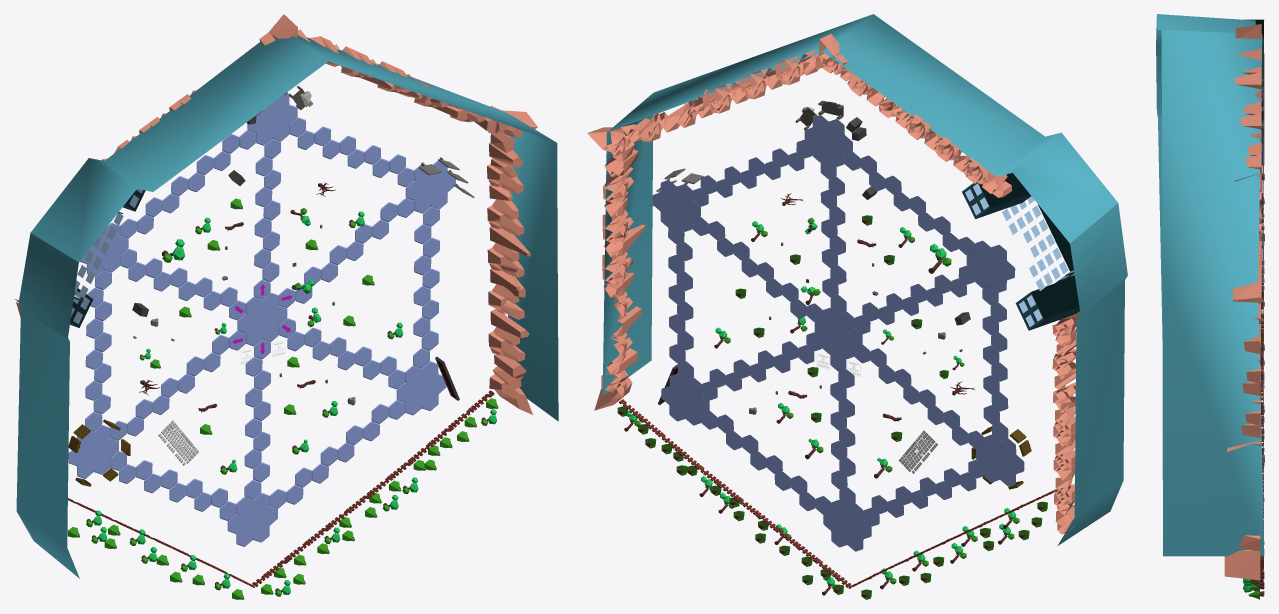
3 views of the same model, side by side, from view 1: azimuth 30°, elevation 25°; view 2: azimuth 150°, elevation 25°; view 3: azimuth 270°, elevation 25° (orthographic). The views are drawn at different scales.
Parts seen in each view (by area): view 1: Plane.001, Circle.015, Circle.014, пол.010, пол.008, пол.011, пол.002, пол.003, пол.005, пол.006, пол.001, пол.012 (+13 smaller); view 2: Plane.001, Circle.015, Circle.014, Circle.032, Circle.001, stone2.001, пол.008, пол.010, пол.002, пол.004, пол.005, пол.001 (+15 smaller); view 3: Plane.001, Circle.015, Circle.014, stone2.001, Circle.001.
Part boxes in pixels (<box>): Plane.001: <box>16,35,558,578</box>; Circle.015: <box>487,132,532,414</box>; Circle.014: <box>297,29,537,137</box>; пол.010: <box>413,206,439,367</box>; пол.008: <box>85,270,111,431</box>; пол.011: <box>269,400,405,508</box>; пол.002: <box>244,339,270,499</box>; пол.003: <box>120,130,255,238</box>; пол.005: <box>253,139,281,299</box>; пол.006: <box>120,248,245,320</box>; пол.001: <box>279,318,404,389</box>; пол.012: <box>110,451,236,520</box>; Plane.001: <box>602,14,1127,545</box>; Circle.015: <box>594,141,645,410</box>; Circle.014: <box>587,49,831,156</box>; Circle.032: <box>1052,311,1079,534</box>; Circle.001: <box>819,34,1011,197</box>; stone2.001: <box>962,173,1079,330</box>; пол.008: <box>982,286,1008,441</box>; пол.010: <box>668,225,693,380</box>; пол.002: <box>830,353,855,505</box>; пол.004: <box>692,217,822,322</box>; пол.005: <box>820,160,846,313</box>; пол.001: <box>701,332,822,400</box>; Plane.001: <box>1156,14,1264,556</box>; Circle.015: <box>1224,302,1260,580</box>; Circle.014: <box>1233,48,1261,302</box>; stone2.001: <box>1245,19,1264,165</box>; Circle.001: <box>1235,24,1261,38</box>.
Size of what is drawn, in the model's own units: 138 by 149 by 25.57.
Materials: 47 (9 with a texture image).
